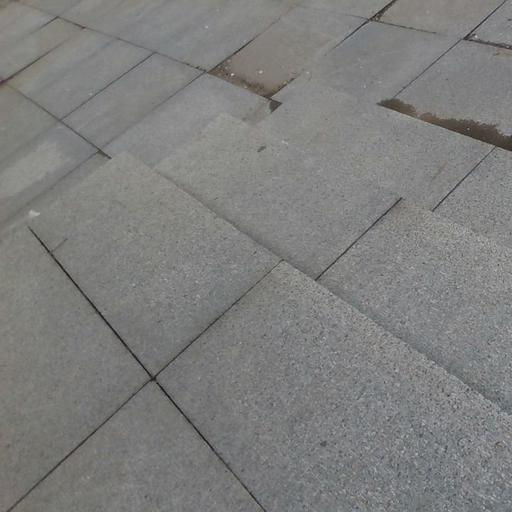Stairs: (0, 155, 512, 512)
